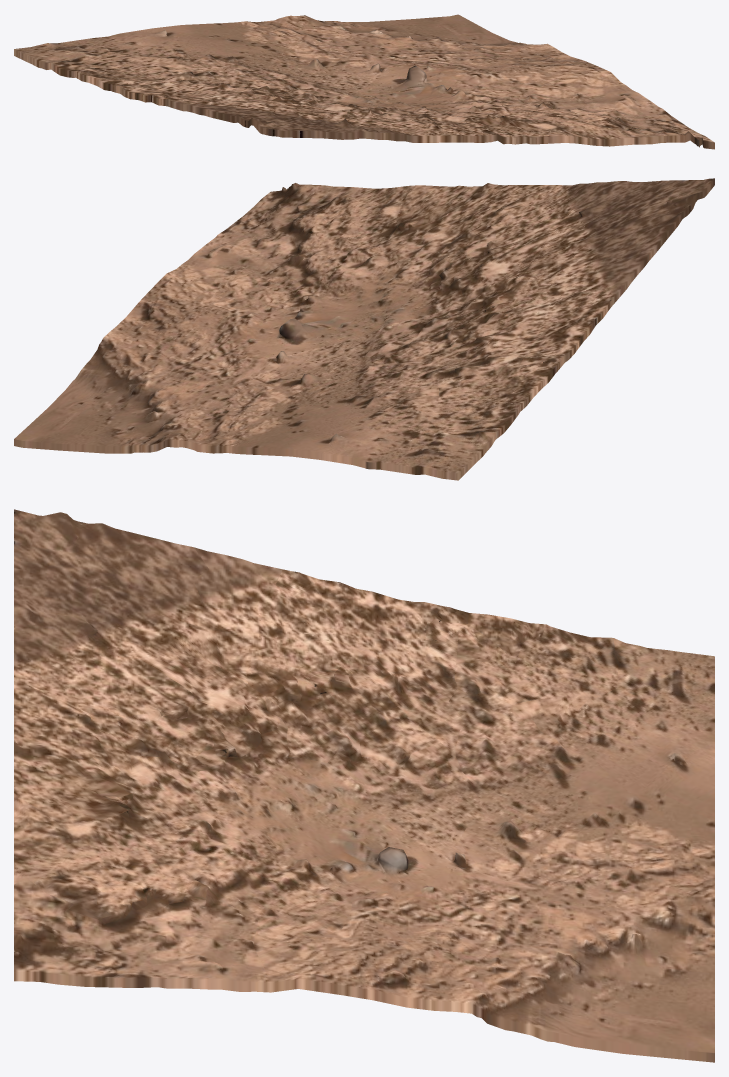
The picture shows the model from 3 angles, top to bottom: view 1: azimuth 30°, elevation 25°; view 2: azimuth 150°, elevation 25°; view 3: azimuth 270°, elevation 25°; orthographic projection. The views are drawn at different scales.
Size of the model in its own units: 8 by 3.24 by 8.
Materials: 1 (1 with a texture image).
